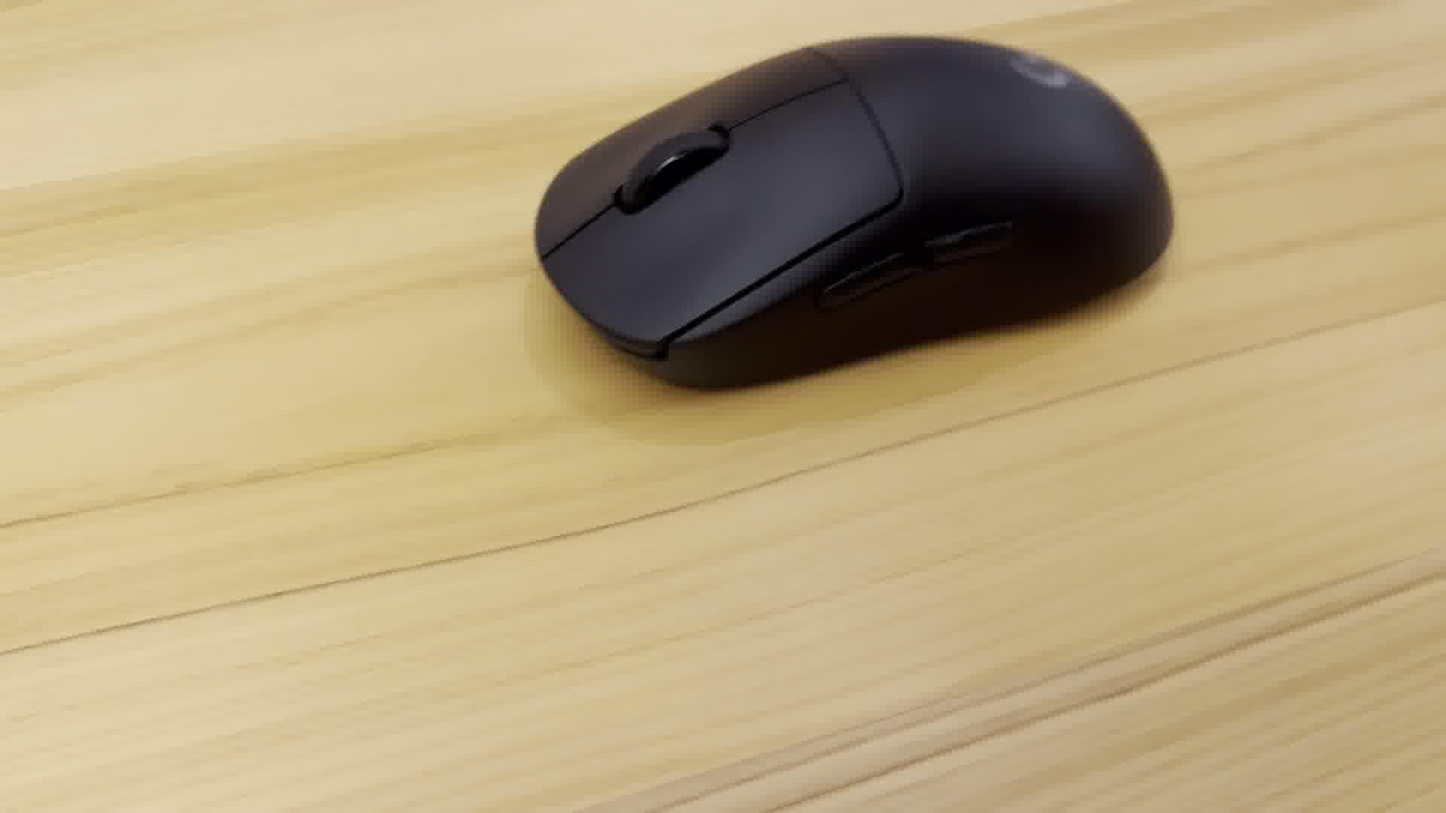mouse: (528, 24, 1191, 405)
